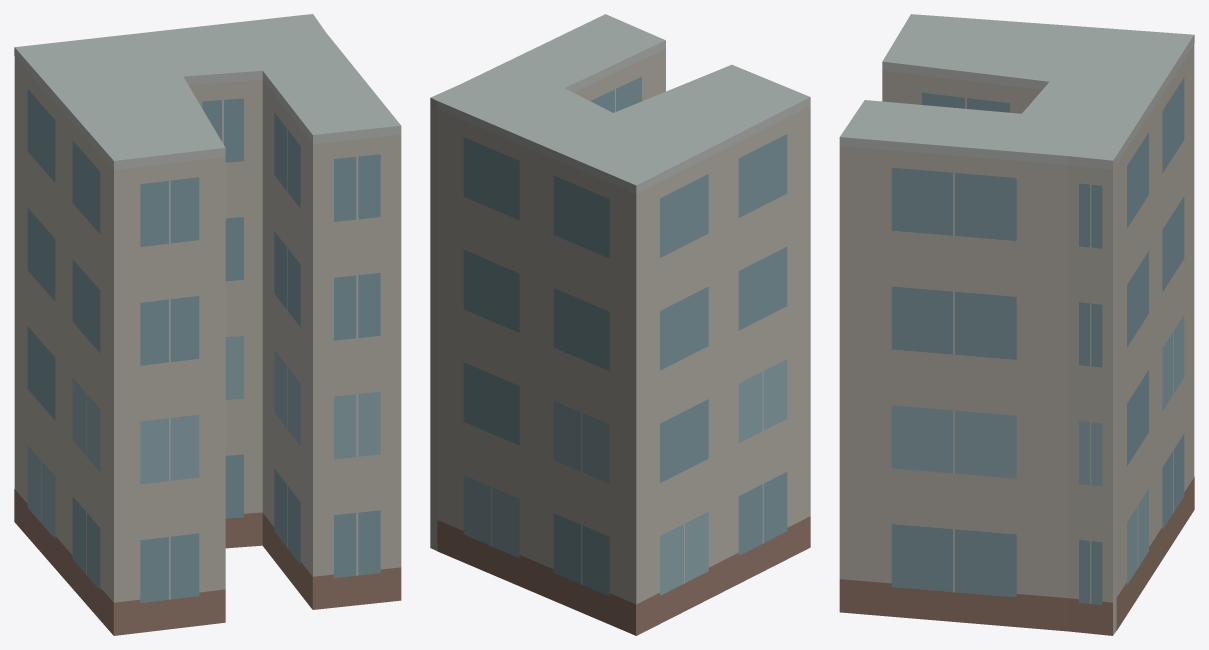
The model's file is survey-upis-32470782.glb.
3 renders of one model, left to right at view 1: azimuth 30°, elevation 25°; view 2: azimuth 150°, elevation 25°; view 3: azimuth 270°, elevation 25°, orthographic. The views are drawn at different scales.
Visible parts, largest first — view 1: survey-upis-32470782.tmp; view 2: survey-upis-32470782.tmp; view 3: survey-upis-32470782.tmp.
Part boxes in pixels (box(x1,y1,x2,y2)): survey-upis-32470782.tmp: box(14, 14, 401, 635); survey-upis-32470782.tmp: box(430, 14, 810, 635); survey-upis-32470782.tmp: box(839, 14, 1194, 635).
Size of the model in its own units: 8.64 by 13.05 by 8.84.
